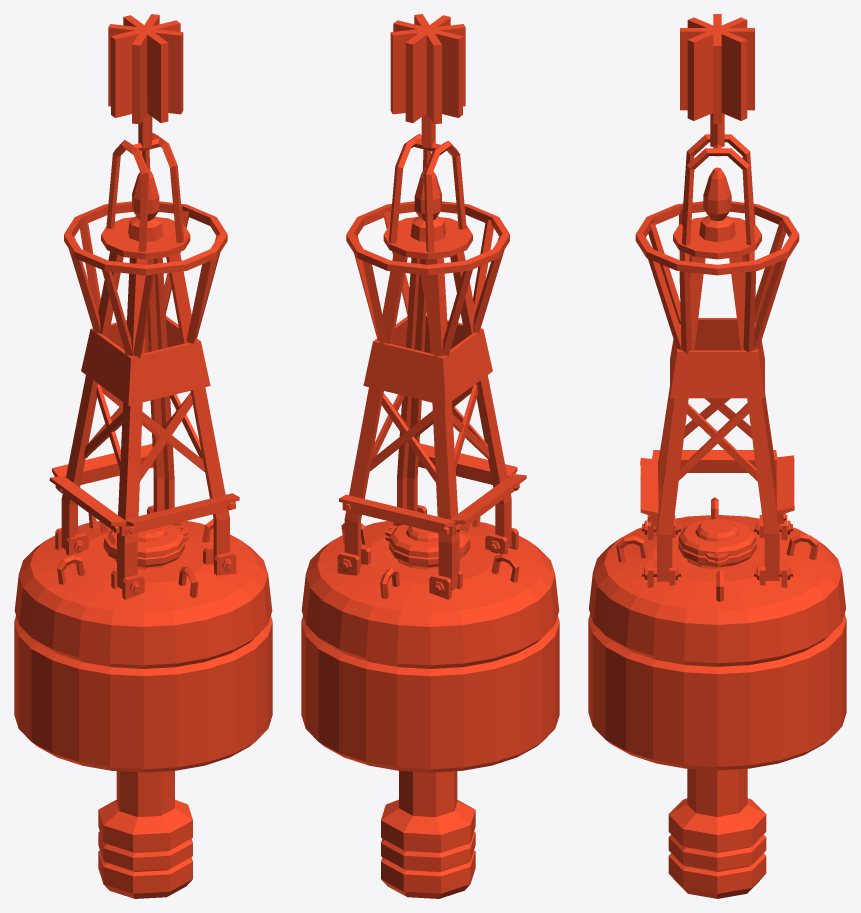
Rendered from SM_Buoy_Navigation_City.fbx.
3 renders of one model, left to right at view 1: azimuth 30°, elevation 25°; view 2: azimuth 150°, elevation 25°; view 3: azimuth 270°, elevation 25°, orthographic.
Parts seen in each view (by area): view 1: SM_Buoy_Navigation_City; view 2: SM_Buoy_Navigation_City; view 3: SM_Buoy_Navigation_City.
Boxes of the visible parts, x1,y1,x2,y2 form: SM_Buoy_Navigation_City: [14, 14, 272, 898]; SM_Buoy_Navigation_City: [301, 14, 559, 898]; SM_Buoy_Navigation_City: [588, 14, 846, 898].
Size of the model in its own units: 3 by 10.9 by 3.
